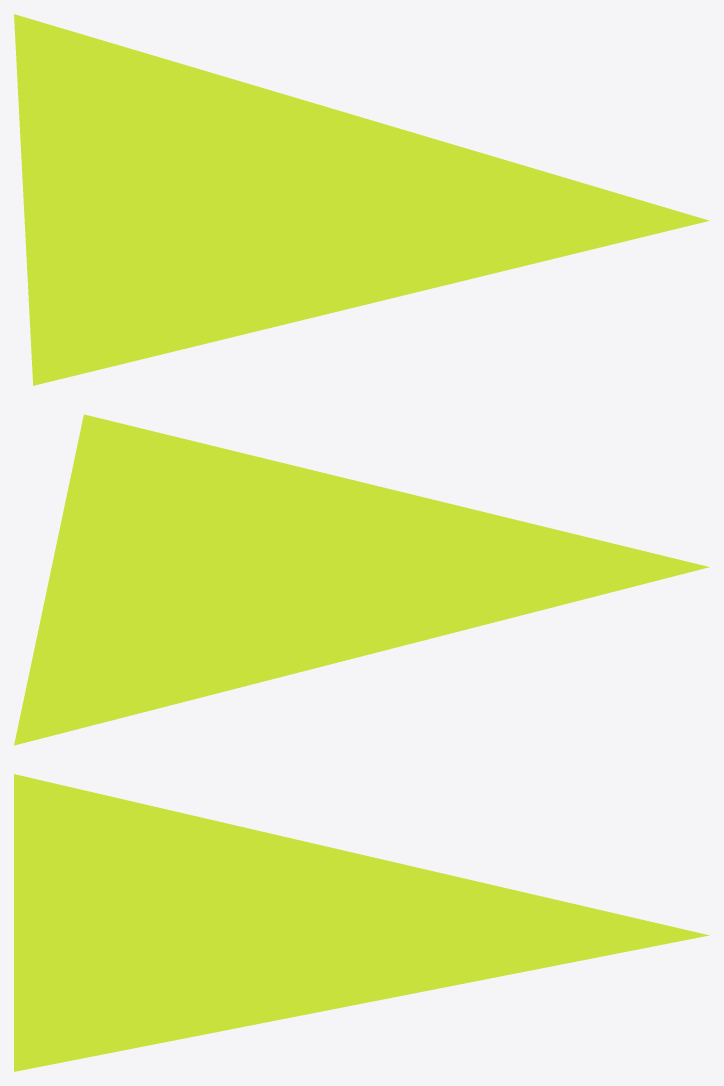
The model's file is Triangle3.FBX.
3 renders of one model, top to bottom at view 1: azimuth 30°, elevation 25°; view 2: azimuth 150°, elevation 25°; view 3: azimuth 270°, elevation 25°, orthographic. The views are drawn at different scales.
Visible parts, largest first — view 1: Line001; view 2: Line001; view 3: Line001.
Boxes of the visible parts, x1,y1,x2,y2 form: Line001: (14, 14, 709, 385); Line001: (14, 414, 709, 745); Line001: (14, 774, 709, 1071).
Bounding box in the file's own units: 15.36 × 9.28e-16 × 15.16.
